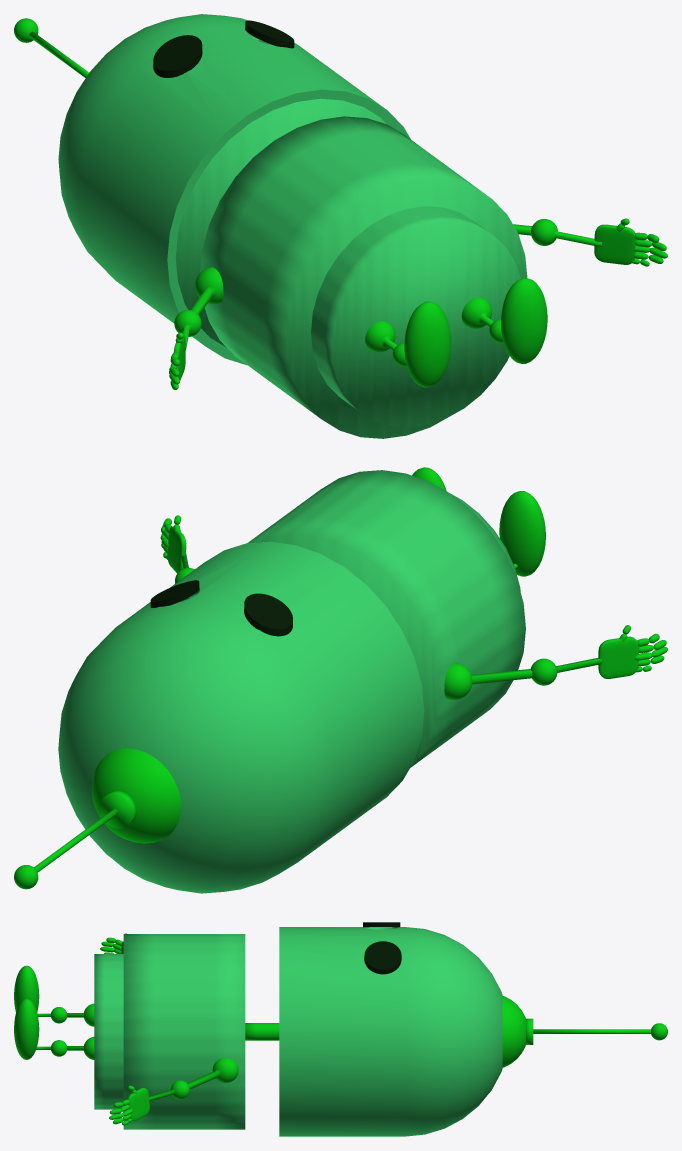
File: robot3.fbx
3 views of the same model, one above another, from view 1: azimuth 30°, elevation 25°; view 2: azimuth 150°, elevation 25°; view 3: azimuth 270°, elevation 25° (orthographic). The views are drawn at different scales.
Parts seen in each view (by area): view 1: Group003; view 2: Group003; view 3: Group003.
Boxes of the visible parts, box(x1,y1,x2,y2) form: Group003: box(14, 14, 667, 438); Group003: box(14, 467, 667, 893); Group003: box(14, 922, 667, 1136).
Bounding box in the file's own units: 21069 × 11230 × 33974.
